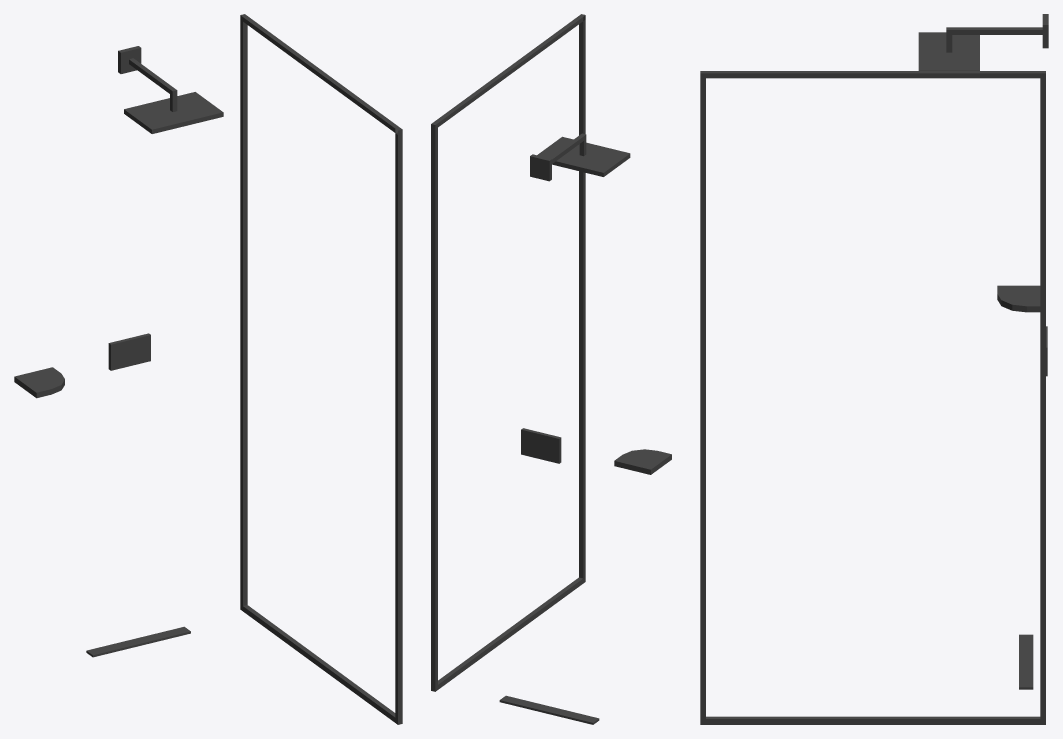
File: Shower3_C2.fbx
3 renders of one model, left to right at view 1: azimuth 30°, elevation 25°; view 2: azimuth 150°, elevation 25°; view 3: azimuth 270°, elevation 25°, orthographic. The views are drawn at different scales.
Visible parts, largest first — view 1: Shower3_C2; view 2: Shower3_C2; view 3: Shower3_C2.
Boxes of the visible parts, bbox=[...] form: Shower3_C2: bbox=[14, 14, 402, 724]; Shower3_C2: bbox=[431, 14, 671, 724]; Shower3_C2: bbox=[700, 14, 1048, 724].
Bounding box in the file's own units: 90 × 222 × 108.
